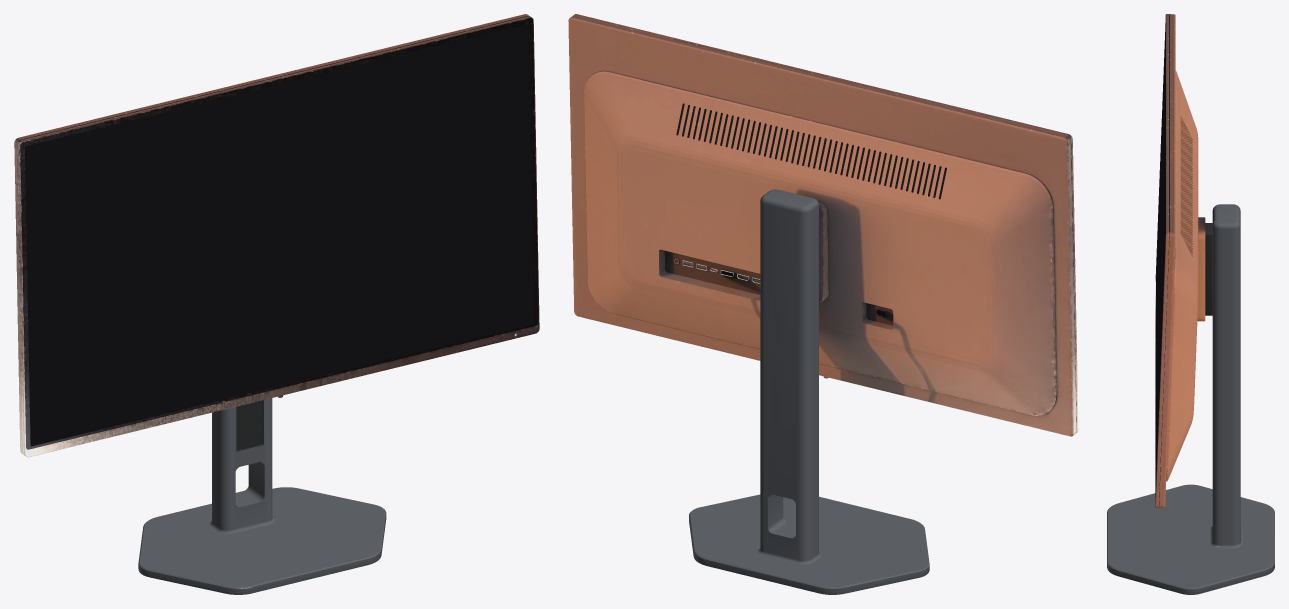
The model's file is monitor.glb.
3 views of the same model, side by side, from view 1: azimuth 30°, elevation 25°; view 2: azimuth 150°, elevation 25°; view 3: azimuth 270°, elevation 25° (orthographic). The views are drawn at different scales.
Visible parts, largest first — view 1: mon_screen, NEW_monitor_root__mesh, NEW_monitor_lift__mesh; view 2: NEW_monitor_lift__mesh, NEW_monitor_root__mesh; view 3: NEW_monitor_root__mesh, NEW_monitor_lift__mesh, mon_screen.
Boxes of the visible parts, box(x1,y1,x2,y2) form: mon_screen: box(25, 24, 533, 446); NEW_monitor_root__mesh: box(138, 398, 386, 594); NEW_monitor_lift__mesh: box(14, 14, 539, 457); NEW_monitor_lift__mesh: box(568, 14, 1078, 436); NEW_monitor_root__mesh: box(689, 189, 929, 594); NEW_monitor_root__mesh: box(1107, 204, 1274, 594); NEW_monitor_lift__mesh: box(1155, 14, 1212, 507); mon_screen: box(1156, 25, 1165, 485).
Size of the model in its own units: 0.64 by 0.5667 by 0.205.
Materials: 4 (3 with a texture image).
